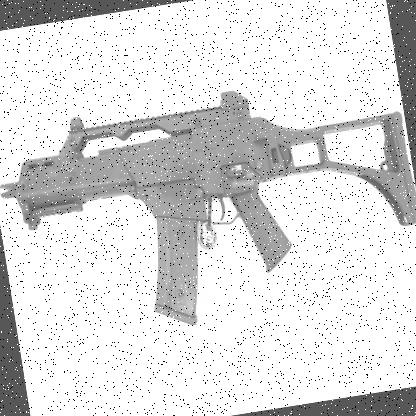rifle: (0, 22, 416, 340)
